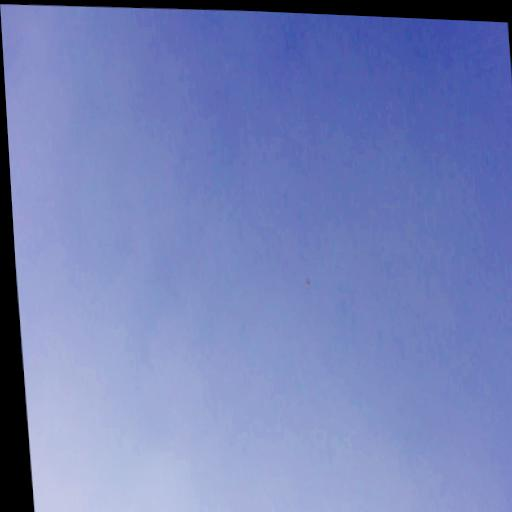drones: (304, 277, 312, 291)
